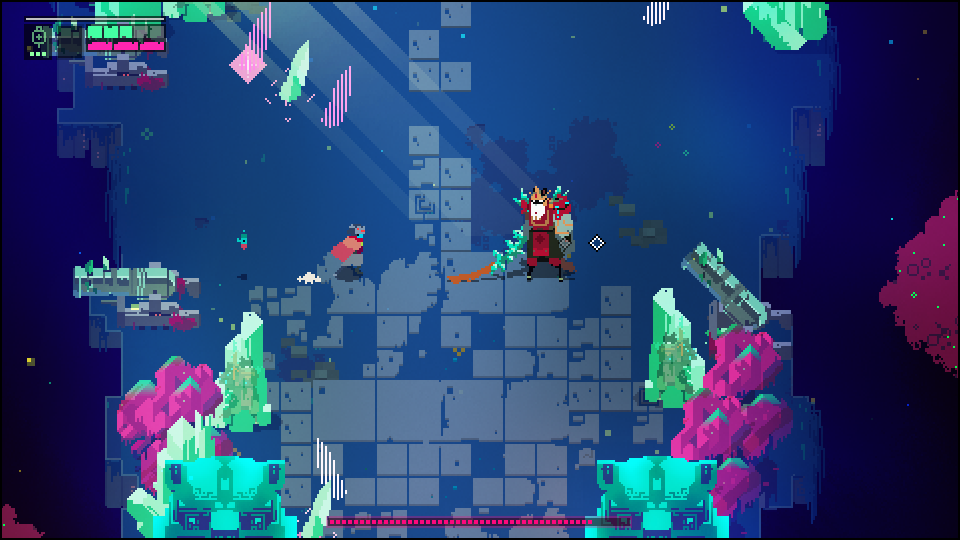hanged_crys: (237, 6, 275, 79), (313, 435, 351, 500), (299, 475, 333, 540), (282, 35, 312, 101), (321, 63, 352, 122)
hanged_man: (488, 187, 575, 281)
player: (333, 220, 368, 278)
